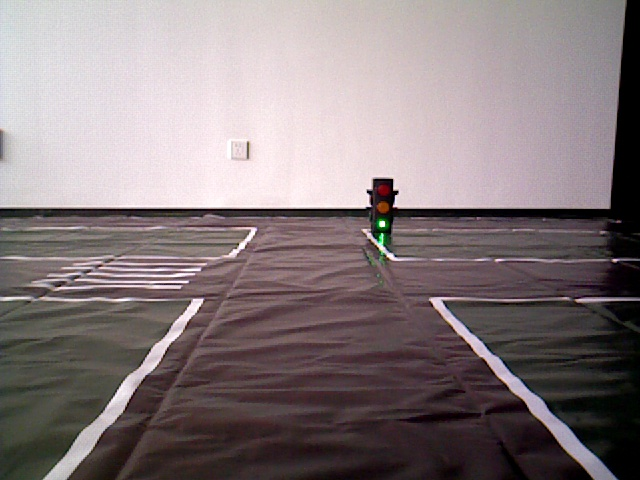green: (371, 180, 393, 234)
